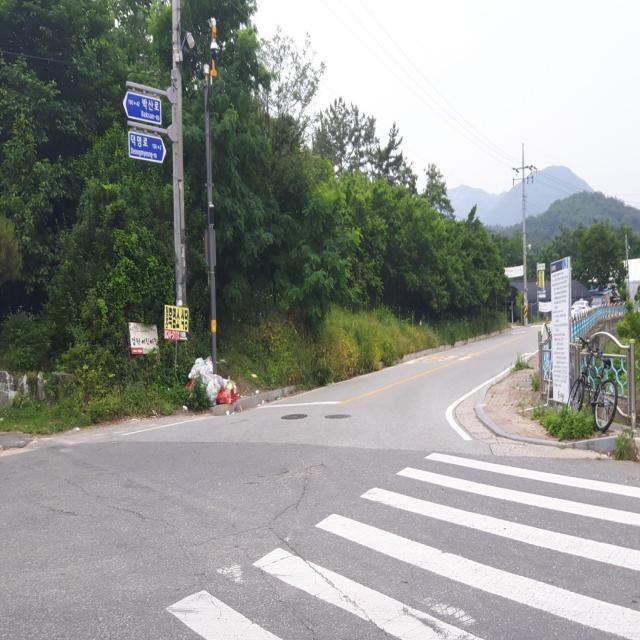횡단보도: (163, 446, 640, 640)
